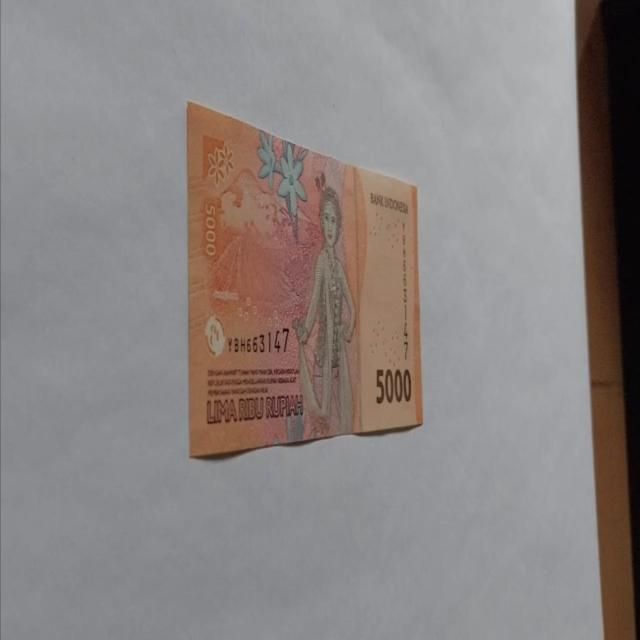lima ribu rupiah: (186, 100, 424, 458), (291, 184, 357, 438)
